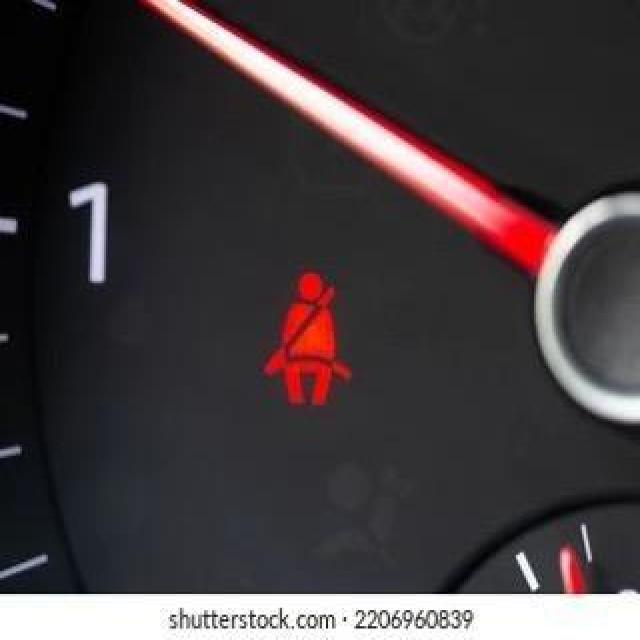kontrolka: (250, 254, 366, 406)
